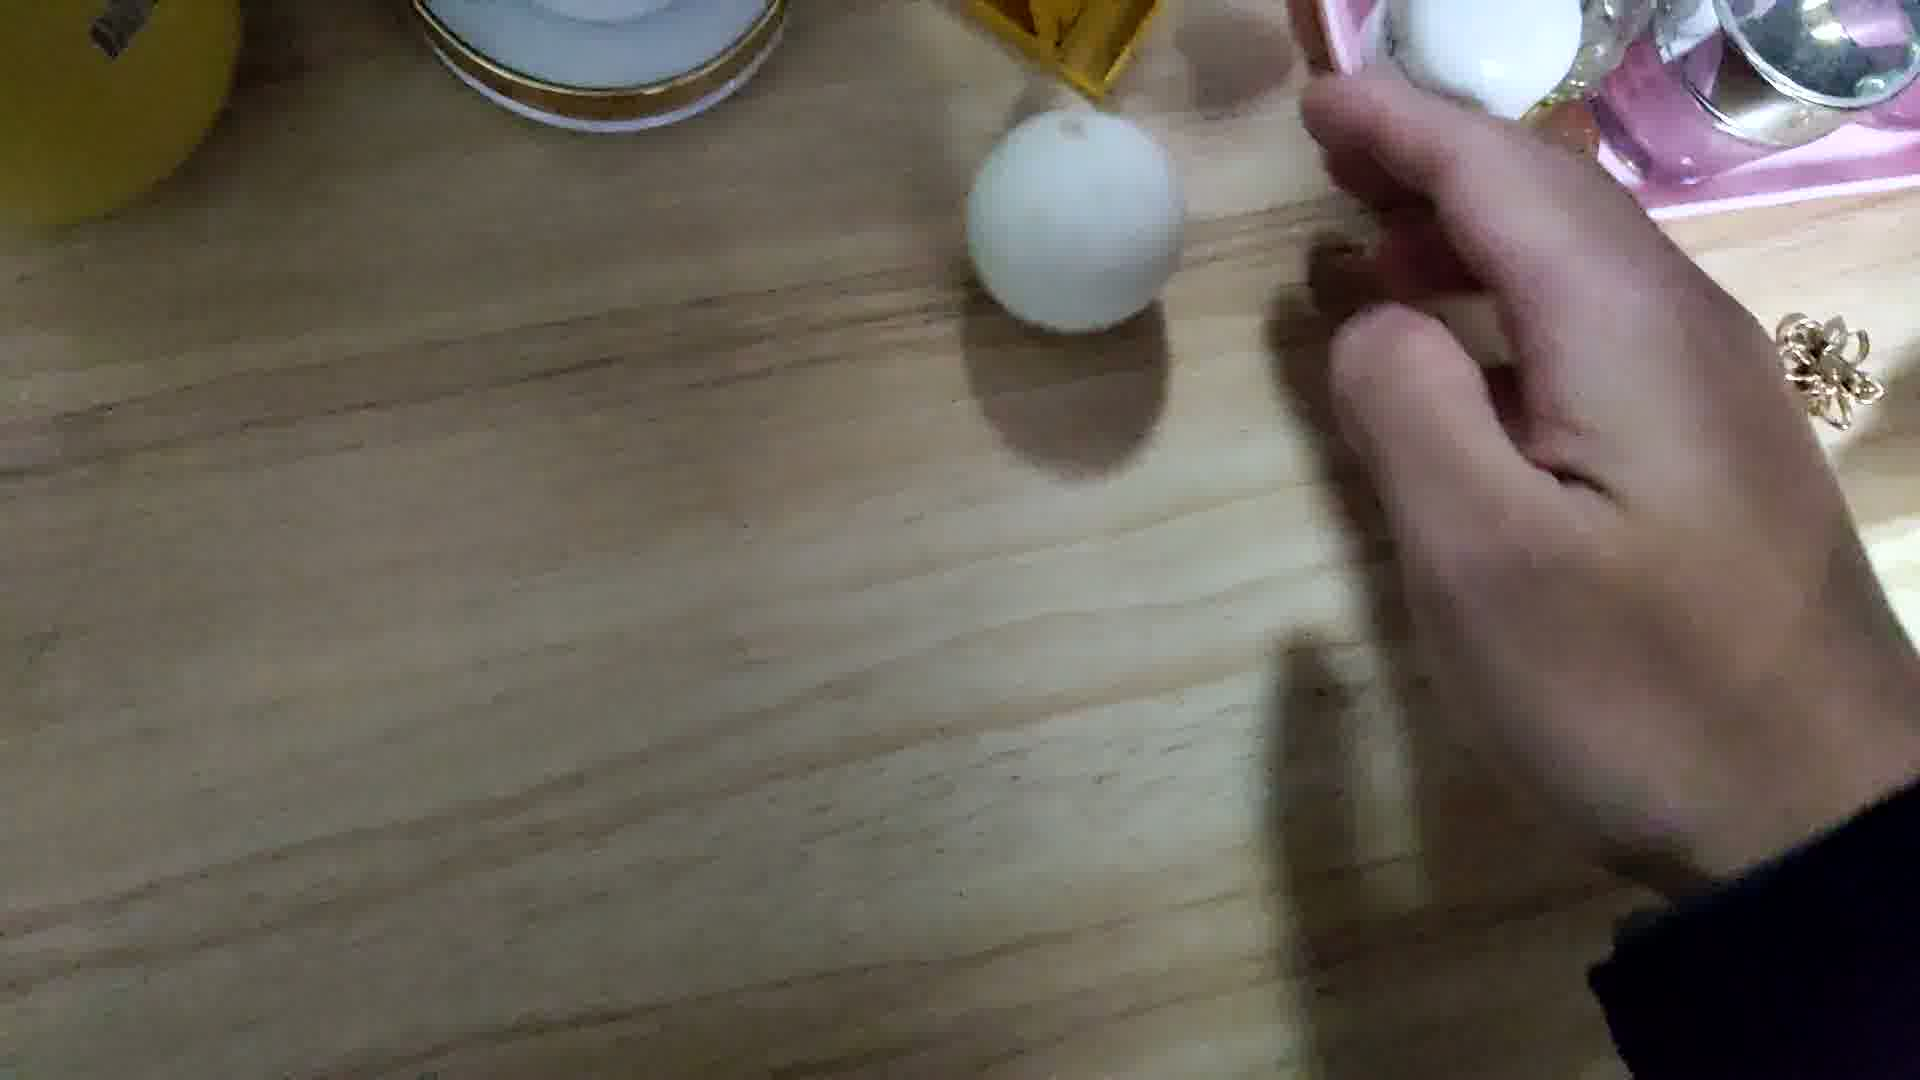Ball: (967, 105, 1185, 338)
